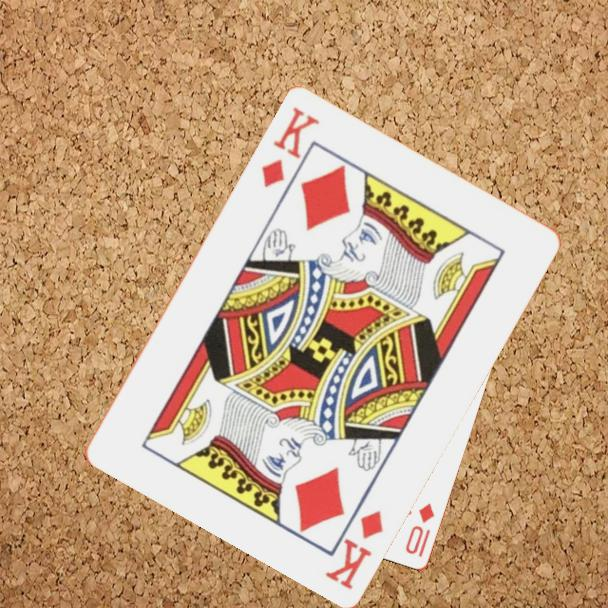d10: (402, 500, 438, 560)
d13: (257, 102, 323, 190), (321, 506, 386, 592)
